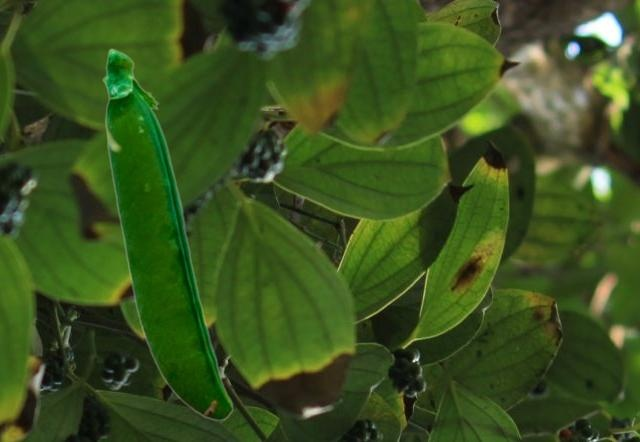pea: (102, 47, 232, 420)
